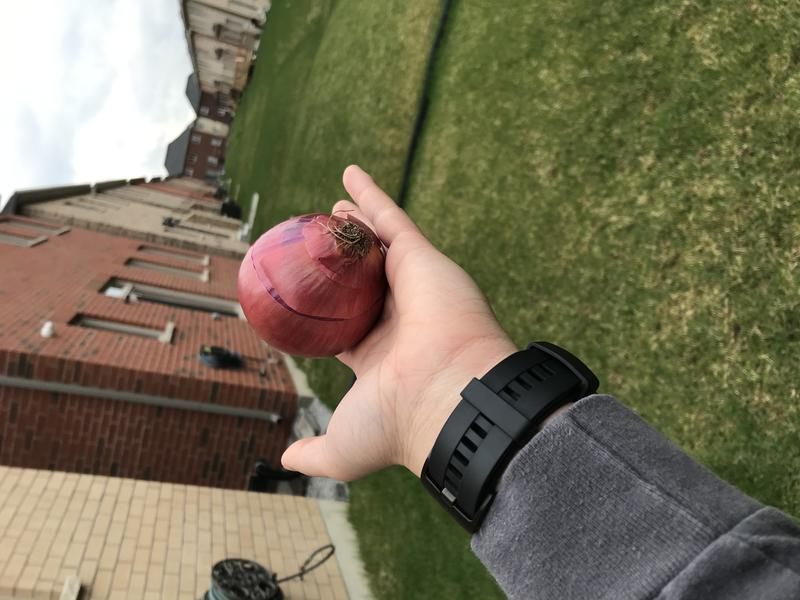purple_onion: (229, 205, 397, 366)
